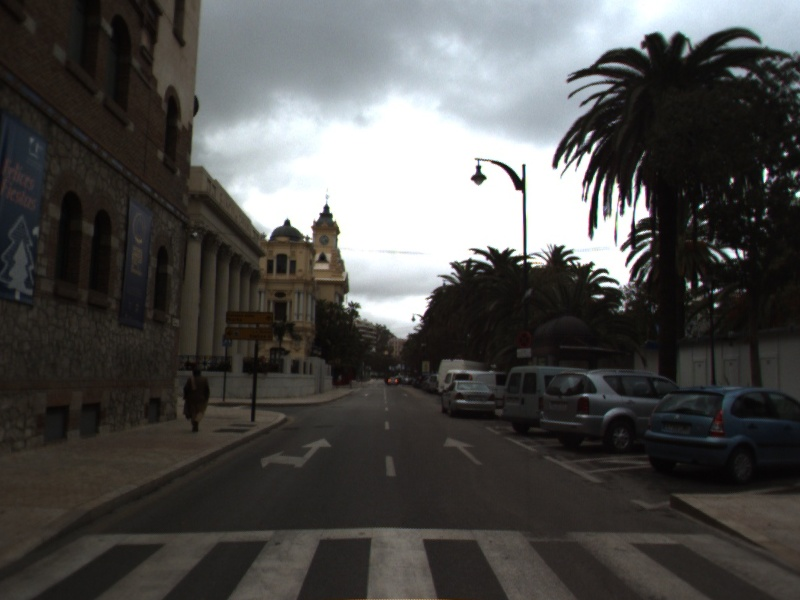STRAIGHT: (441, 435, 485, 467)
STRAIGHT_LEFT: (258, 436, 334, 471)
